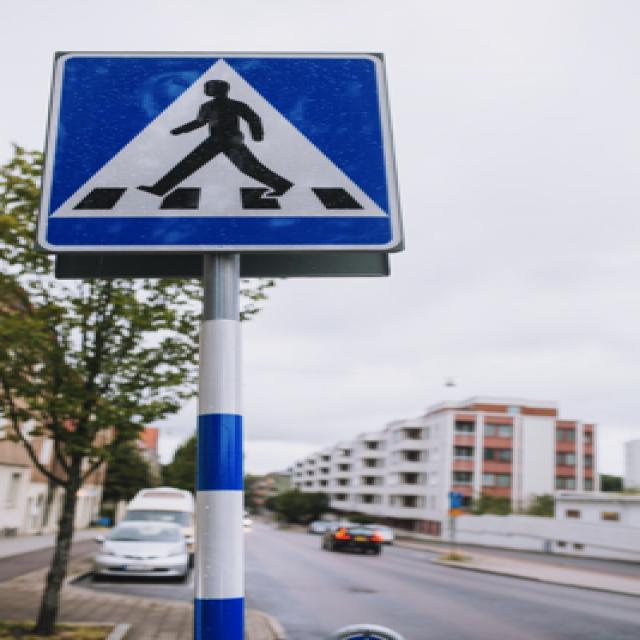crosswalk_sign: (31, 48, 410, 255)
